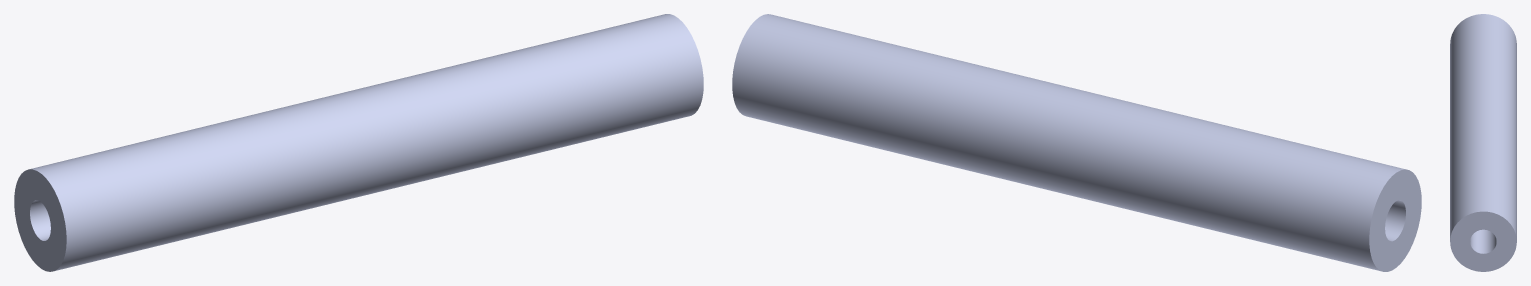
The model's file is input_shaft.glb.
3 views of the same model, side by side, from view 1: azimuth 30°, elevation 25°; view 2: azimuth 150°, elevation 25°; view 3: azimuth 270°, elevation 25° (orthographic). The views are drawn at different scales.
Parts seen in each view (by area): view 1: input_shaft; view 2: input_shaft; view 3: input_shaft.
Part boxes in pixels (x1,y1,x2,y2): input_shaft: (14, 14, 703, 271); input_shaft: (732, 14, 1421, 271); input_shaft: (1450, 14, 1516, 271).
Size of the model in its own units: 0.21 by 0.03 by 0.03.
